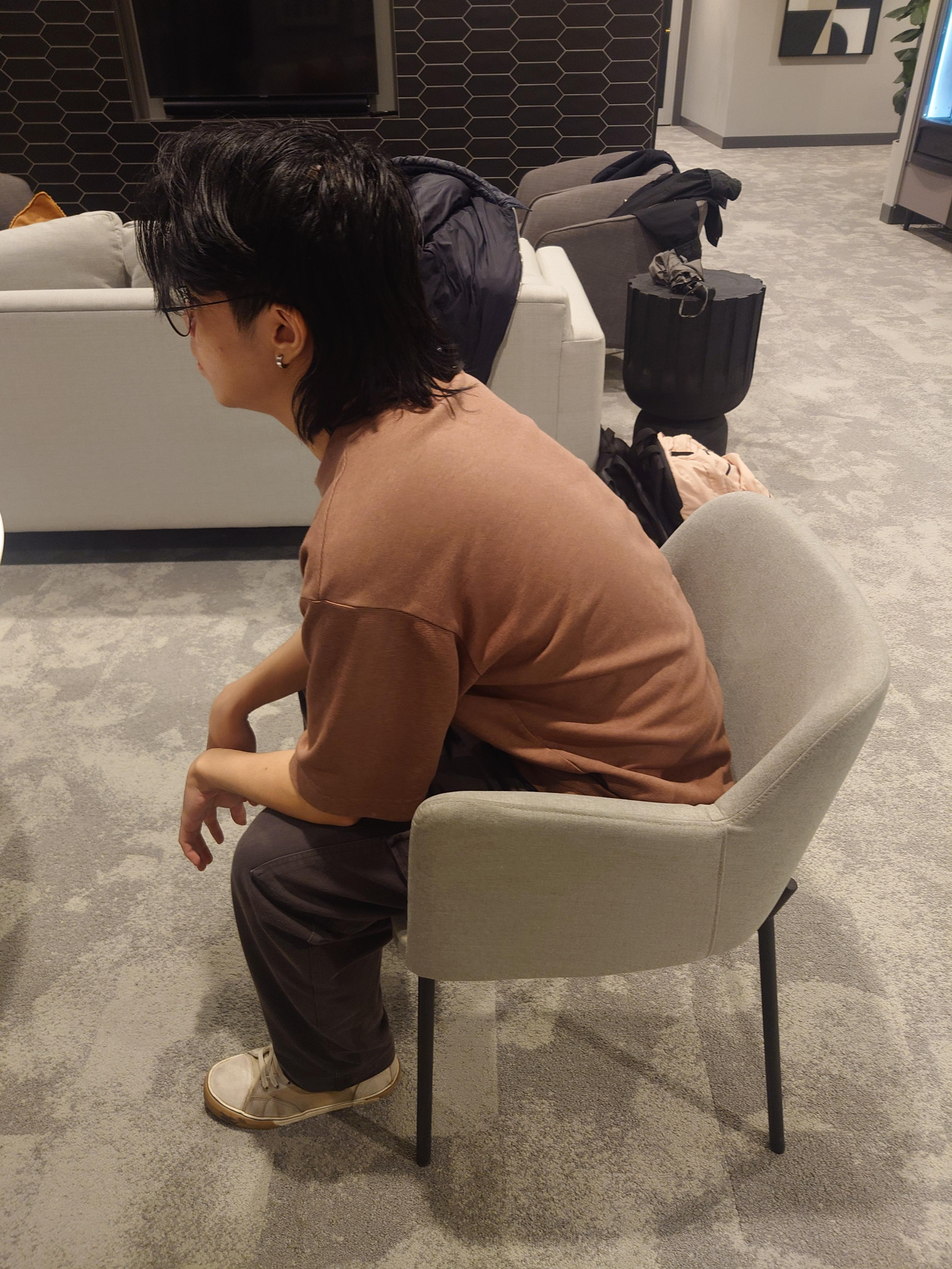BadPosture: (136, 115, 742, 1129)
